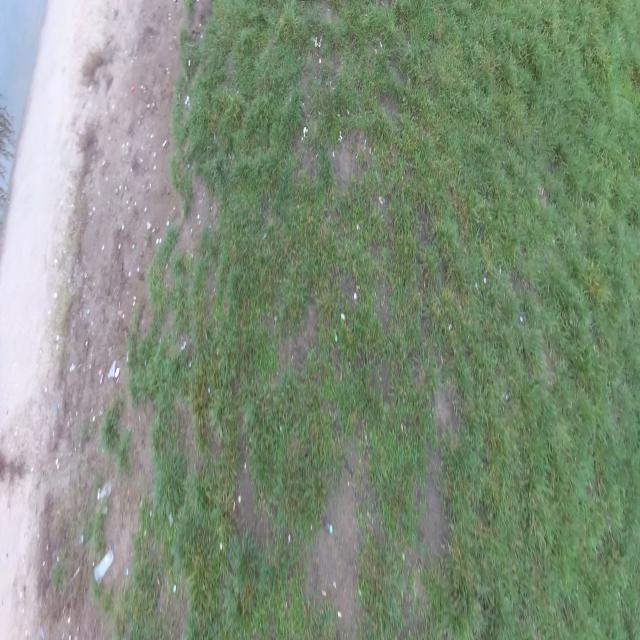rubbish: (93, 549, 114, 585), (95, 478, 111, 500)
